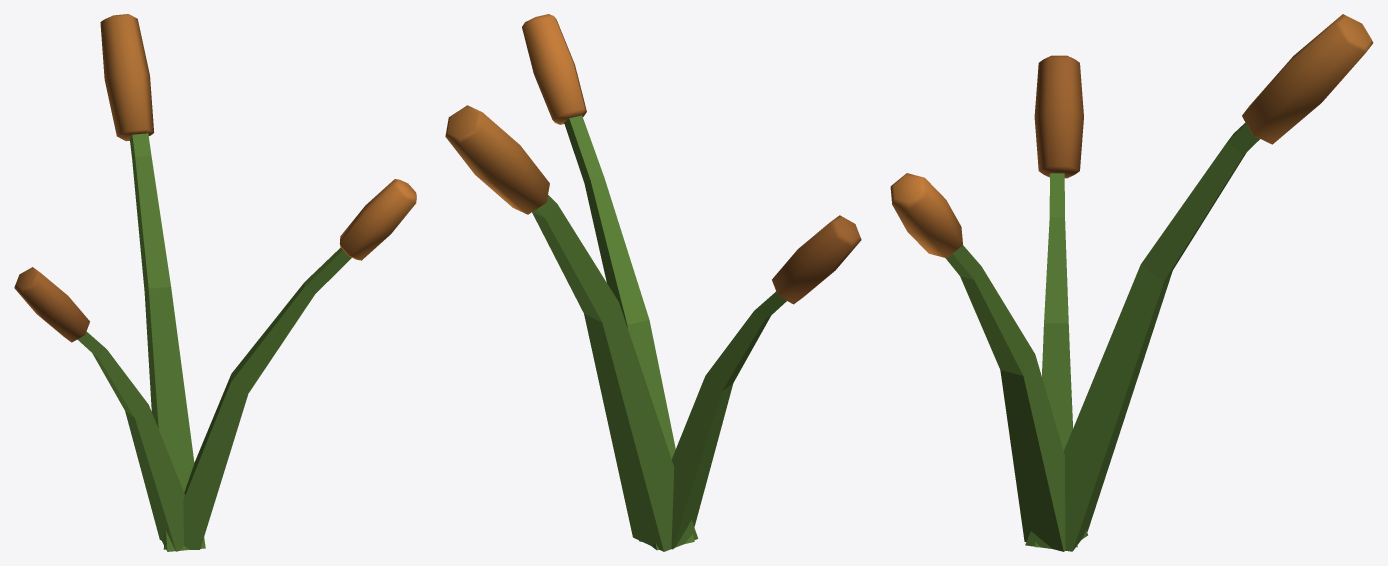
File: Grass_04.glb
3 renders of one model, left to right at view 1: azimuth 30°, elevation 25°; view 2: azimuth 150°, elevation 25°; view 3: azimuth 270°, elevation 25°, orthographic. The views are drawn at different scales.
Parts seen in each view (by area): view 1: Grass_04; view 2: Grass_04; view 3: Grass_04.
Boxes of the visible parts, x1=… form: Grass_04: x1=14, y1=14, x2=416, y2=551; Grass_04: x1=445, y1=14, x2=861, y2=551; Grass_04: x1=890, y1=14, x2=1373, y2=551.
Bounding box in the file's own units: 0.5806 × 0.7058 × 0.5608.
1 material, 1 textured.
